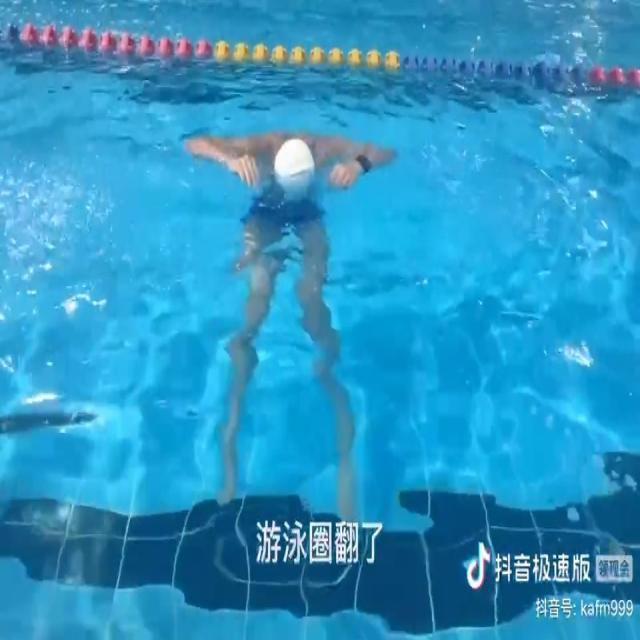Drowning: (183, 124, 399, 520)
